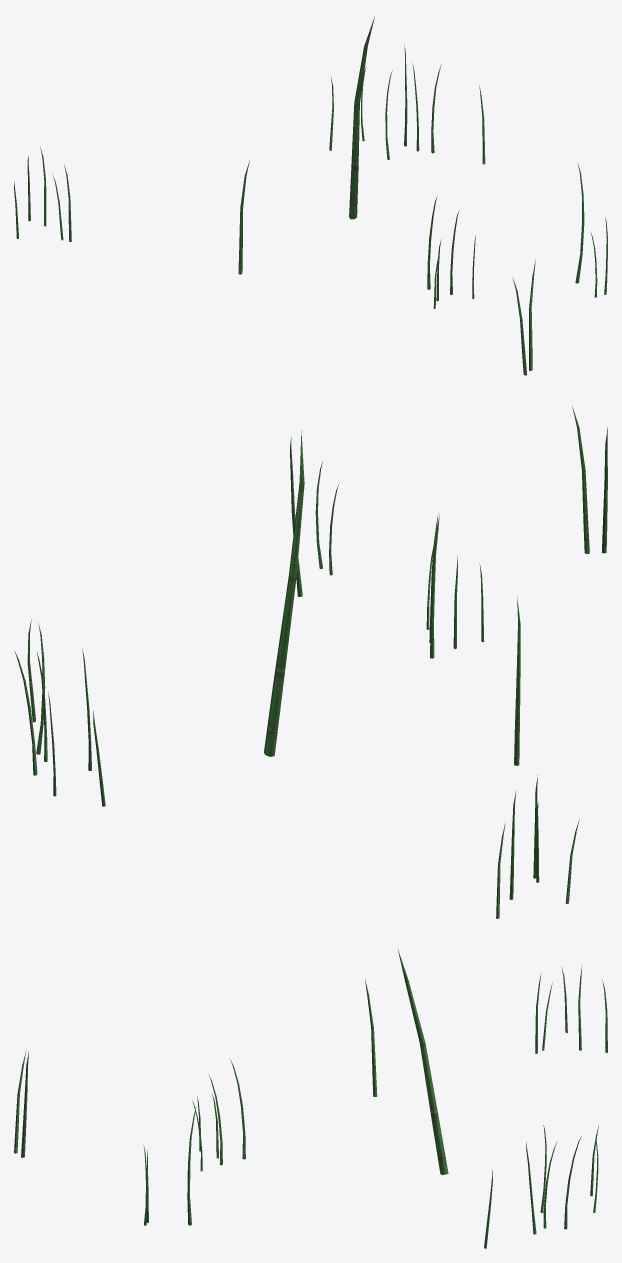
The model's file is Area_12_41.fbx.
3 views of the same model, one above another, from view 1: azimuth 30°, elevation 25°; view 2: azimuth 150°, elevation 25°; view 3: azimuth 270°, elevation 25° (orthographic). The views are drawn at different scales.
Parts seen in each view (by area): view 1: Area_12_41; view 2: Area_12_41; view 3: Area_12_41.
Part boxes in pixels (bbox=[...]): Area_12_41: bbox=[14, 16, 607, 375]; Area_12_41: bbox=[14, 405, 607, 918]; Area_12_41: bbox=[14, 950, 607, 1248].
Size of the model in its own units: 5590 by 2713 by 6401.
